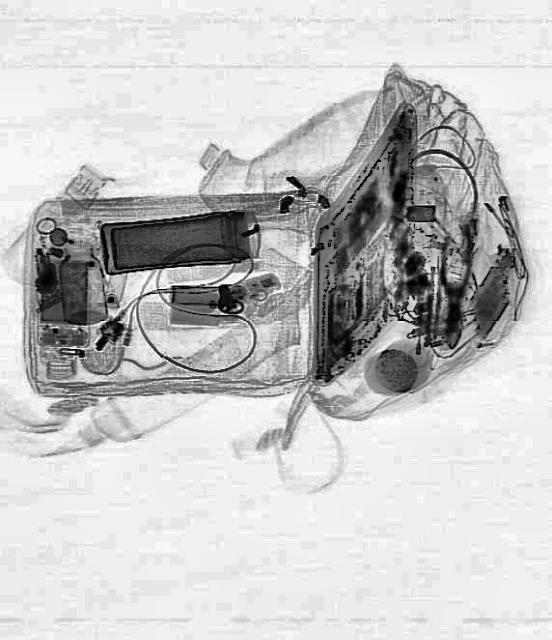Pliers: (434, 225, 476, 348)
